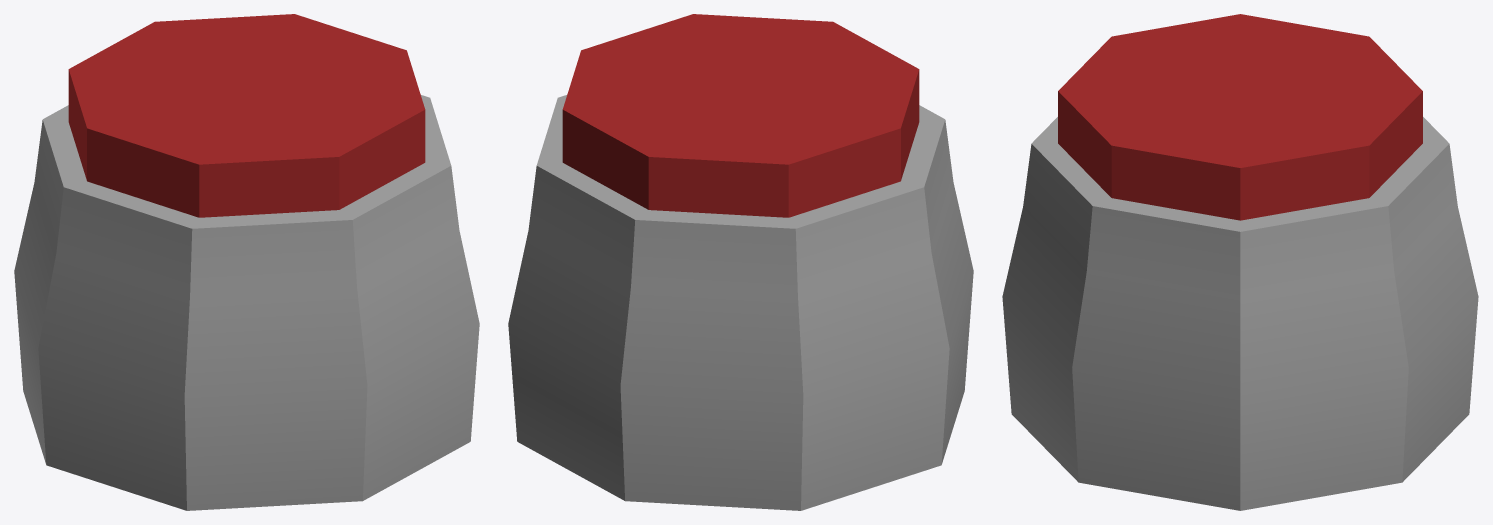
Rendered from button.fbx.
3 renders of one model, left to right at view 1: azimuth 30°, elevation 25°; view 2: azimuth 150°, elevation 25°; view 3: azimuth 270°, elevation 25°, orthographic.
Parts seen in each view (by area): view 1: pCylinder1, pCylinder2; view 2: pCylinder1, pCylinder2; view 3: pCylinder1, pCylinder2.
Boxes of the visible parts, box(x1,y1,x2,y2) form: pCylinder1: box(14, 95, 479, 510); pCylinder2: box(68, 14, 425, 217); pCylinder1: box(508, 95, 973, 510); pCylinder2: box(562, 14, 919, 217); pCylinder1: box(1002, 117, 1478, 510); pCylinder2: box(1058, 14, 1422, 220).
Size of the model in its own units: 2.28 by 1.71 by 2.28.
